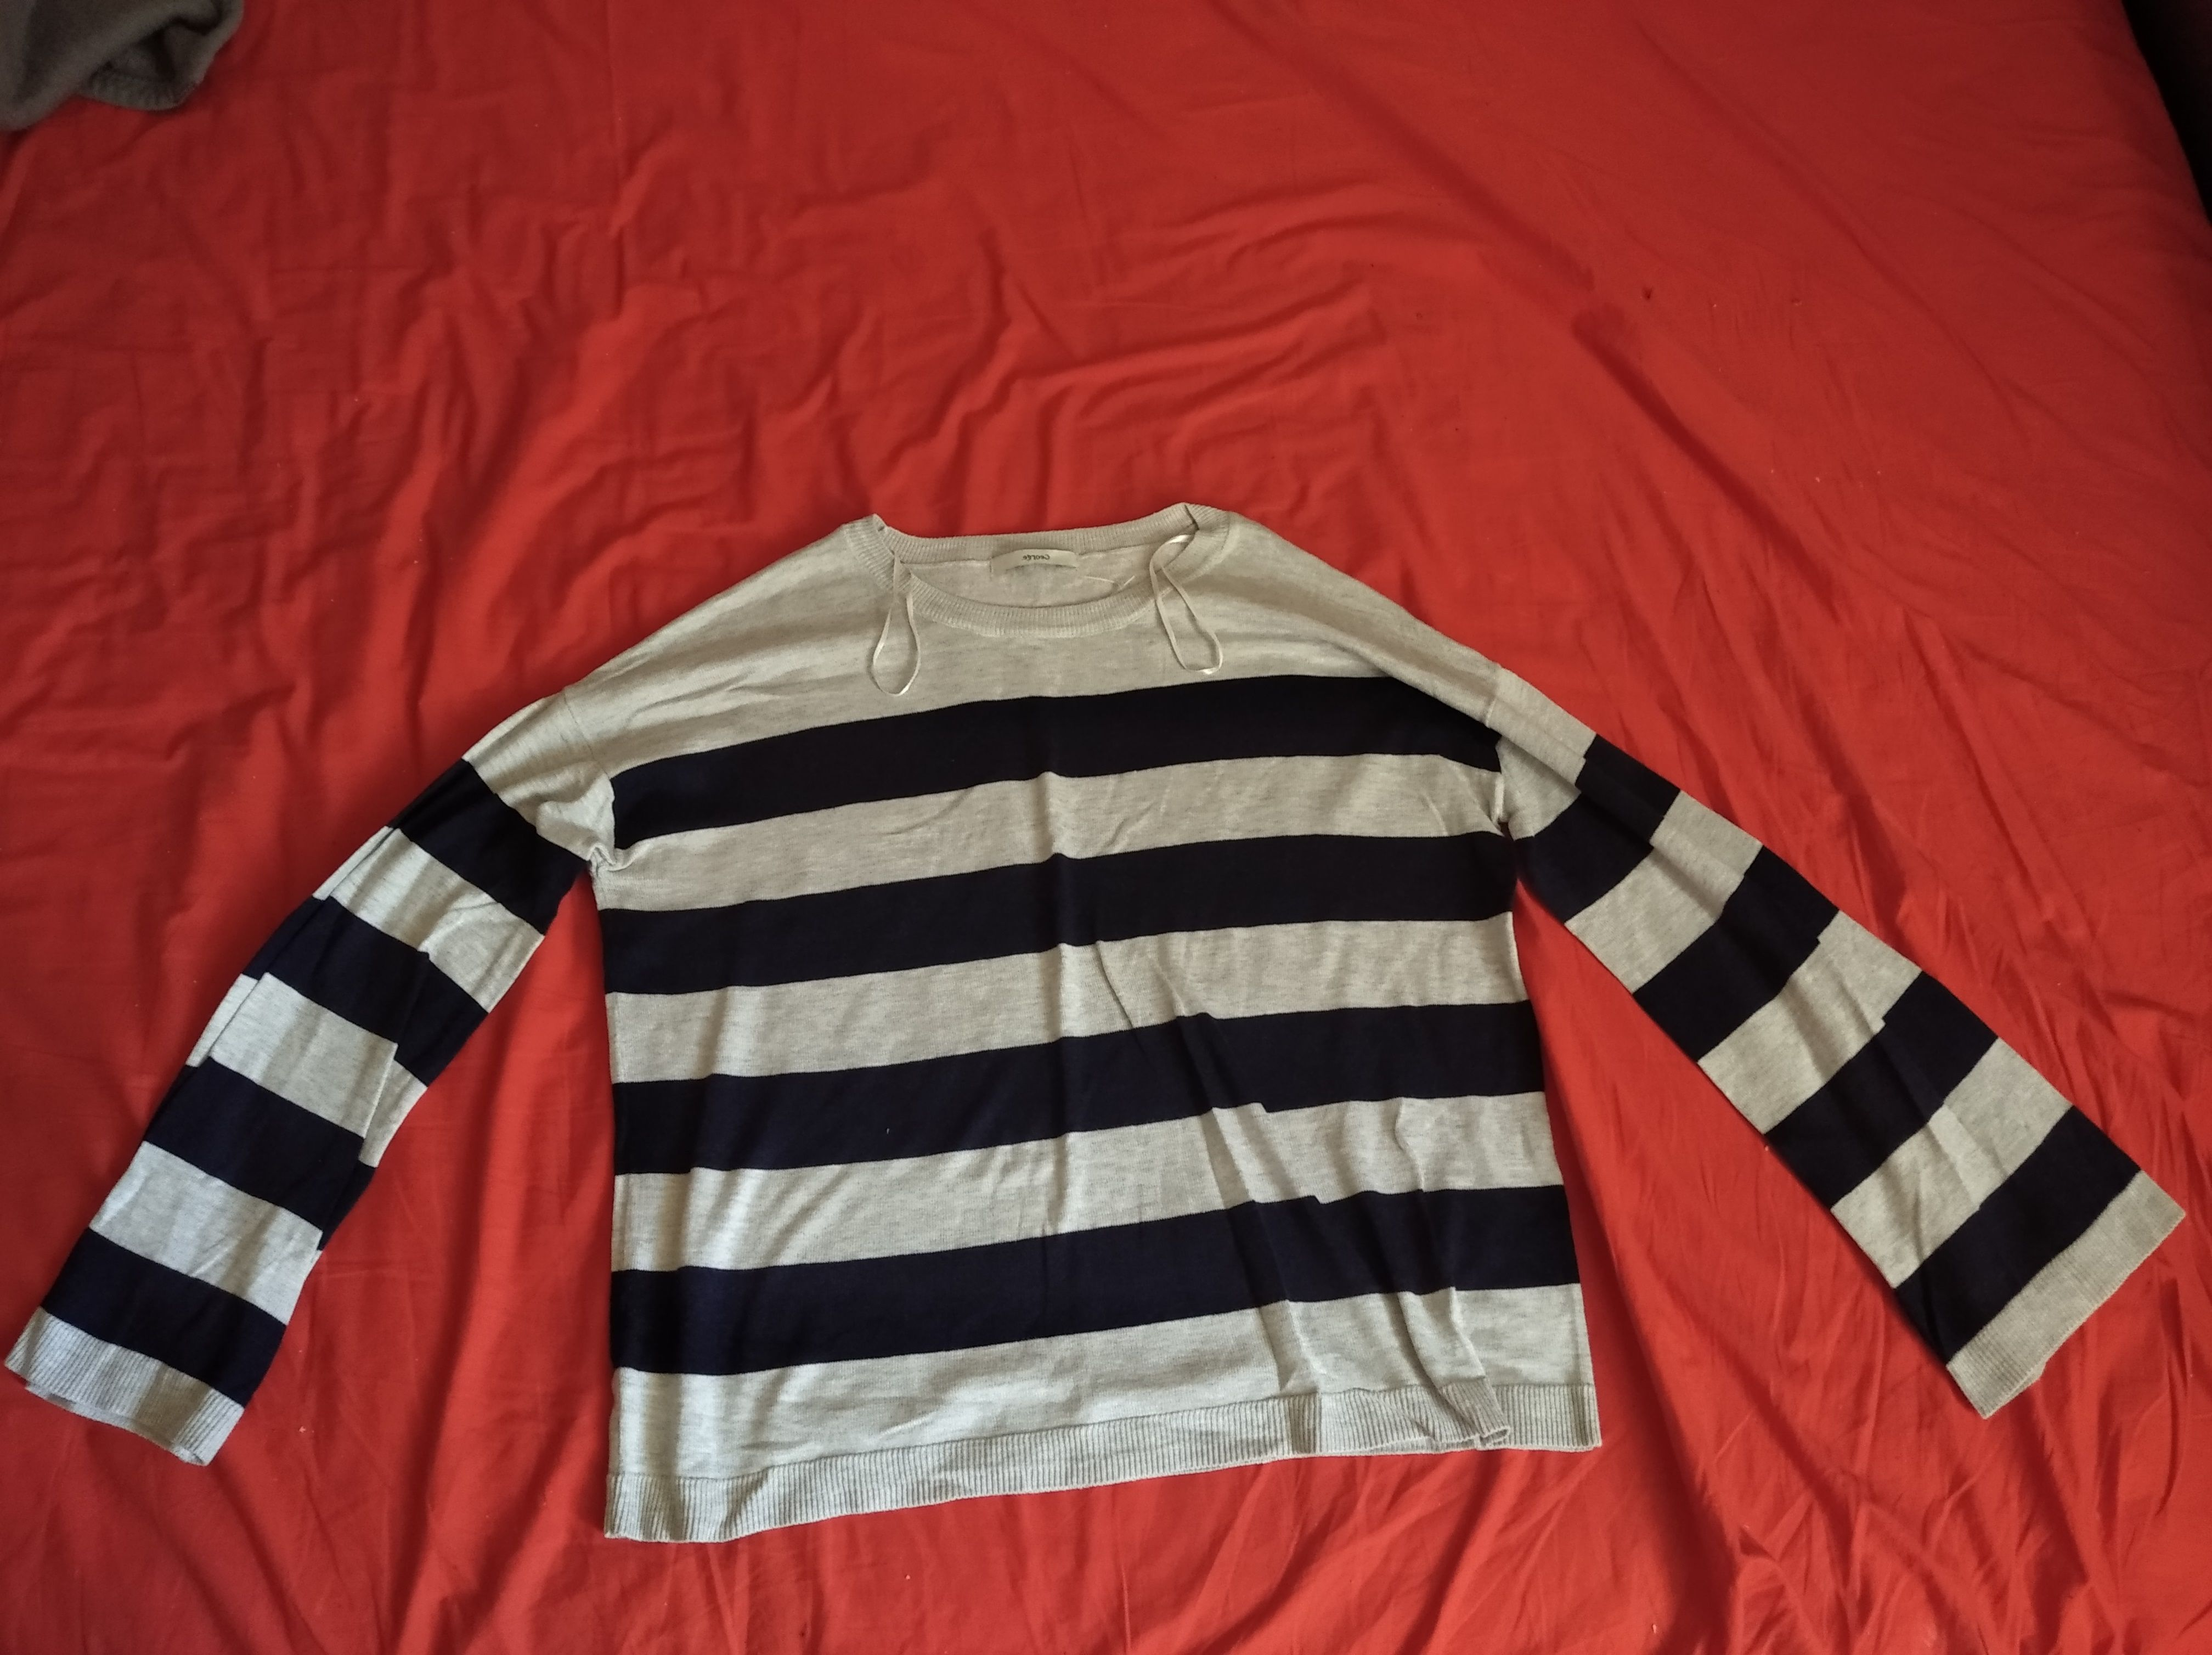clothes: (5, 504, 2198, 1551)
